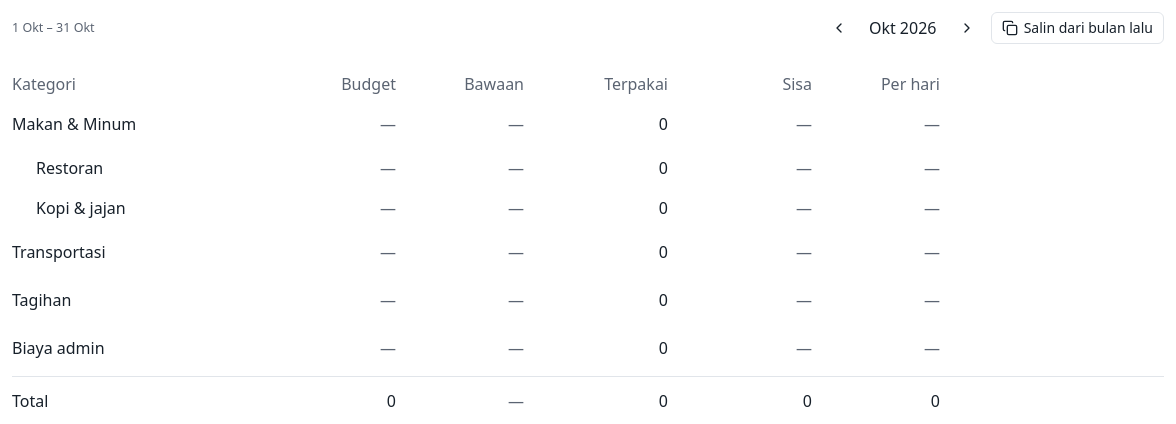
it: BudgetView › mengedit budget lewat sel lalu Enter menyimpan dan memperbarui sisa
Click the button "—" next to "Transportasi": [332, 252] box [260, 236, 404, 268]
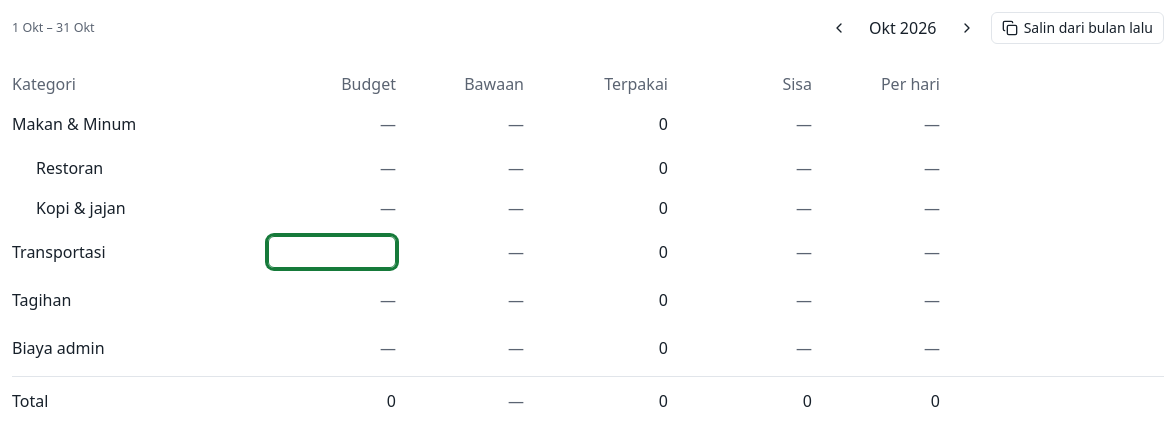
In the field named "Ubah budget Transportasi": [332, 252] box [268, 236, 396, 268], type "300000"
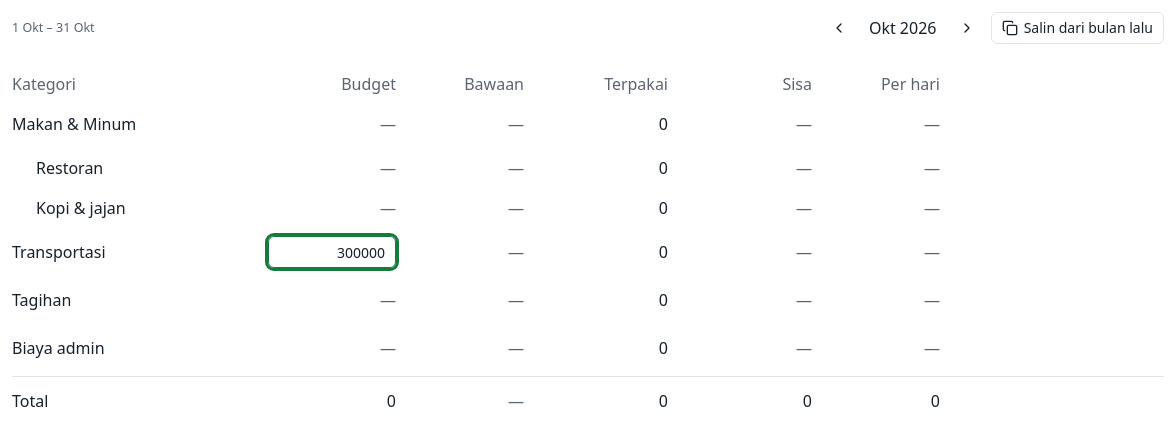
Press Enter in the field named "Ubah budget Transportasi", box [268, 236, 396, 268]
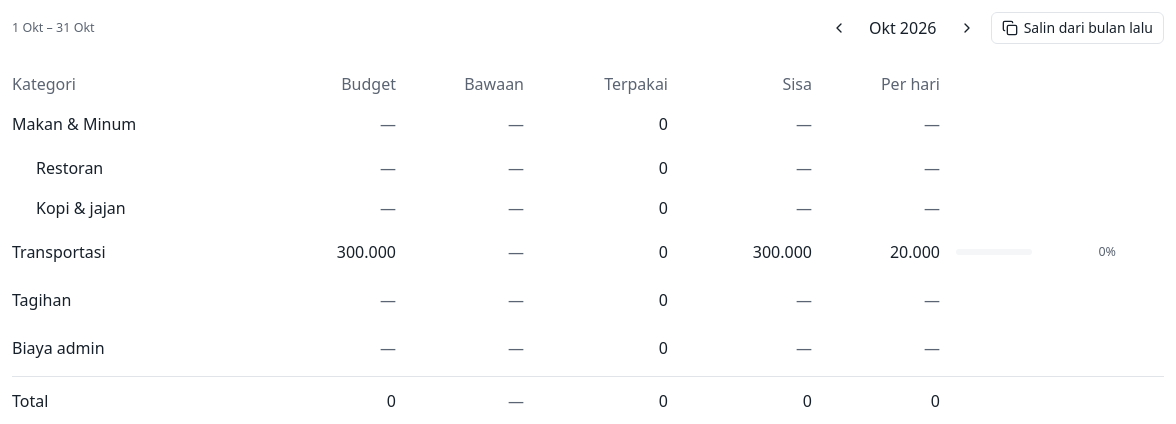
expect the button "300.000" is shown: met
Click the button "300.000": [332, 252] box [260, 236, 404, 268]
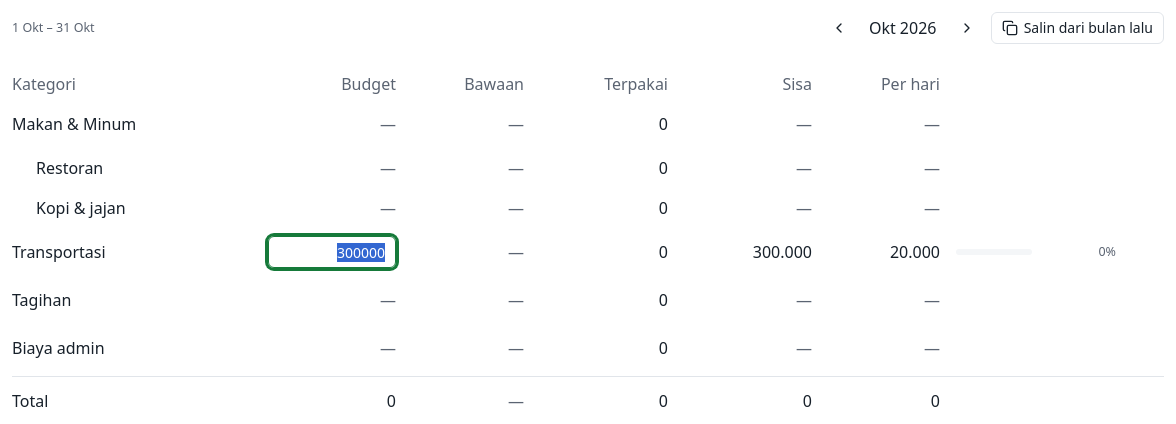
Clear the field named "Ubah budget Transportasi": [332, 252] box [268, 236, 396, 268]
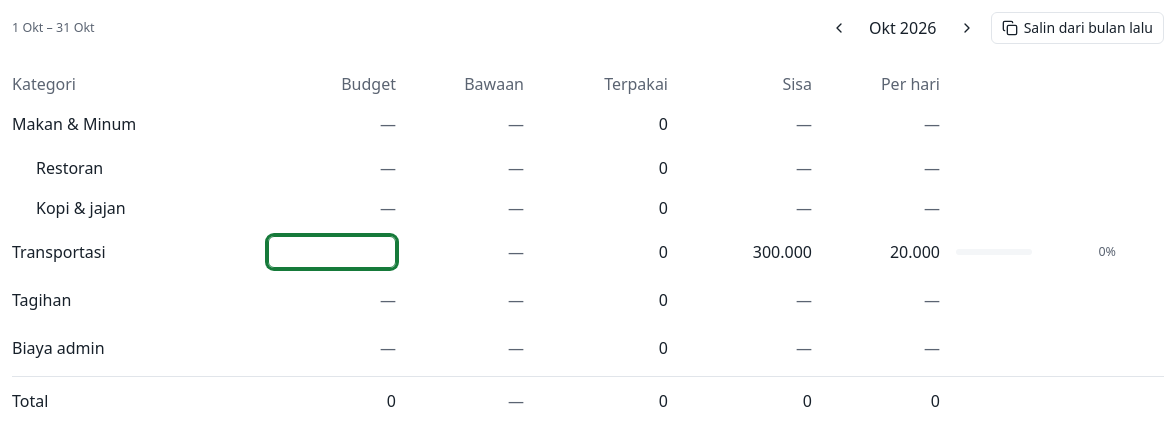
Press Enter in the field named "Ubah budget Transportasi", box [268, 236, 396, 268]
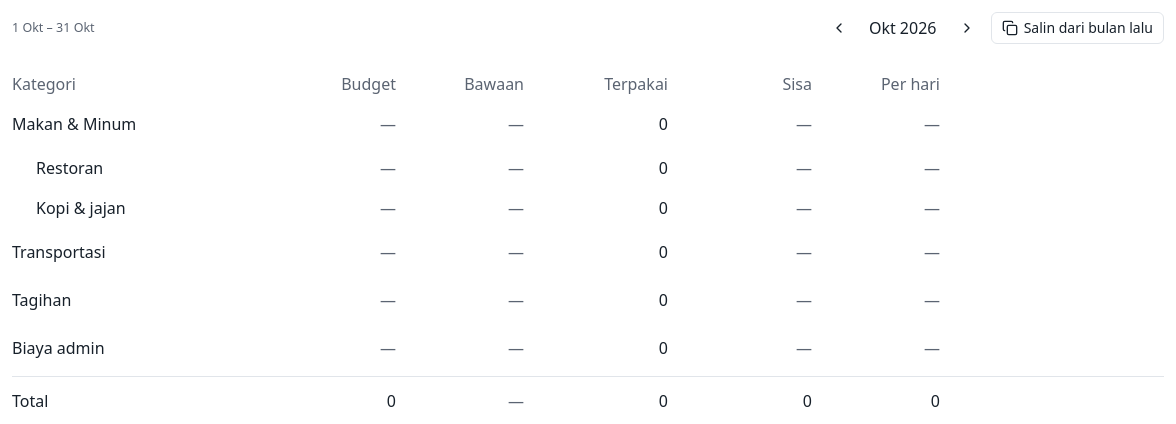
expect the button "—" next to "Transportasi" is shown: met, box [260, 236, 404, 268]
